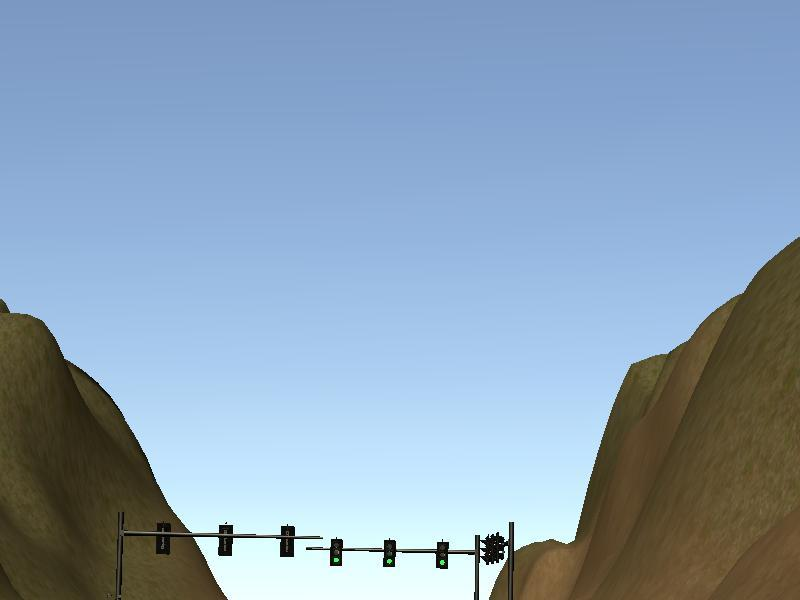Green: (330, 539, 342, 567), (436, 542, 448, 570), (383, 540, 395, 568)
